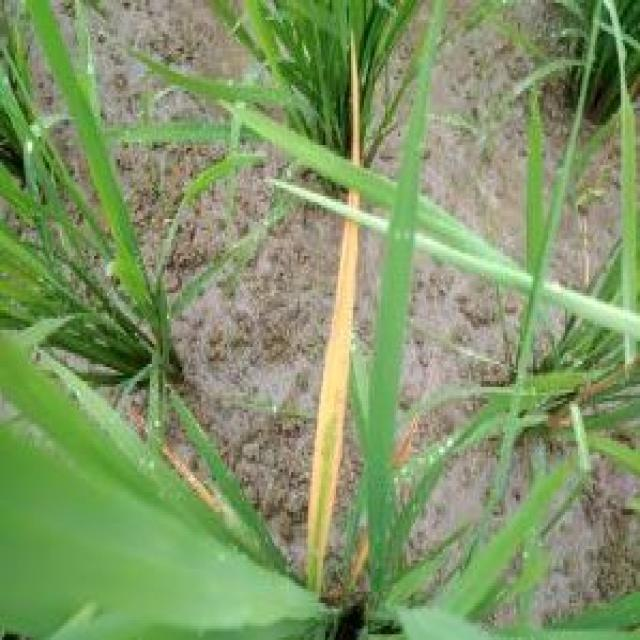Tungro: (306, 29, 366, 640)
